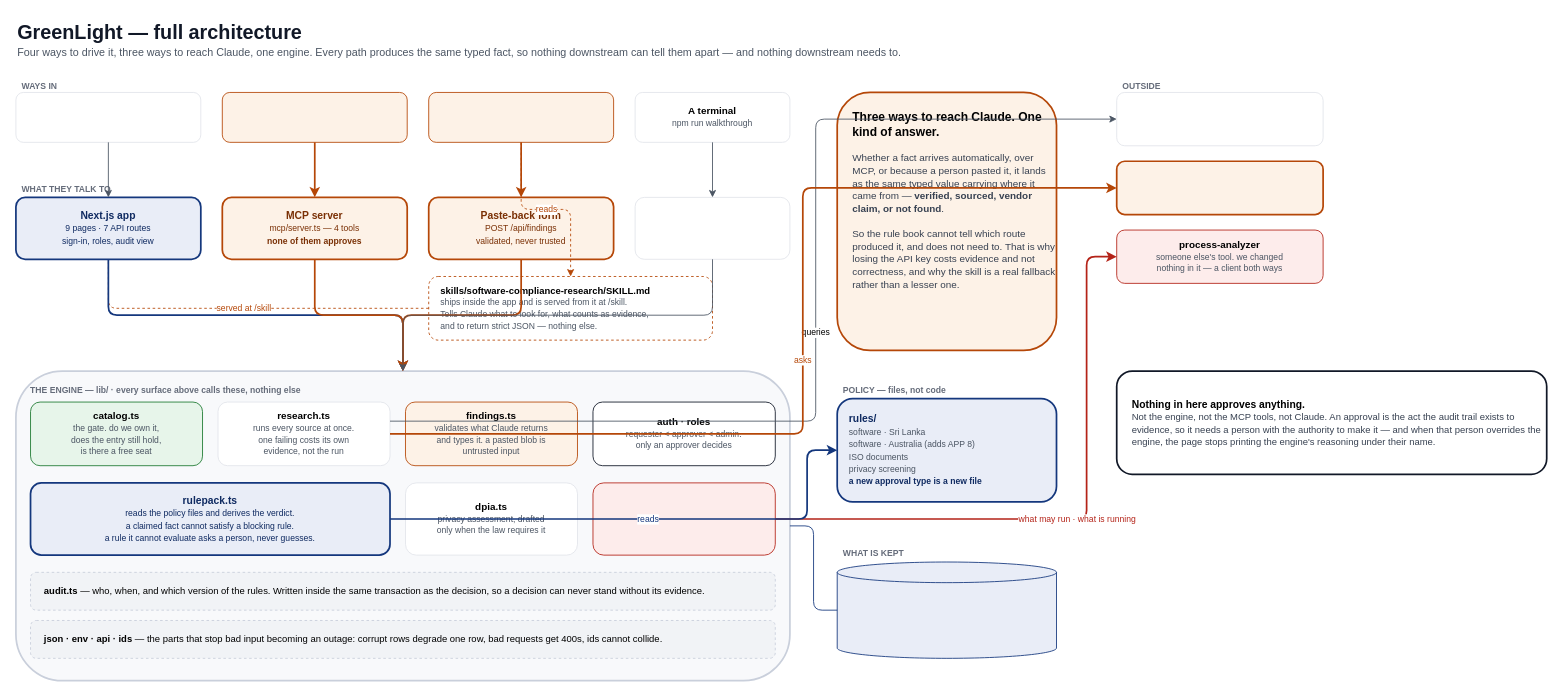
Image size: 1562x696. Some labels were removed from this diagram. The shapes that lost their labels are listed below. From the top down, each one's centre as x and y in pixels, then its label:
[108,117]: A person, in a browser the queue, a request, a decision
[314,117]: Claude, over MCP Claude Code · Claude Desktop
[521,117]: Claude, with the skill a person carries the answer back
[1219,119]: Free security sources CISA · NIST · ToSDR · OSV no key, about one second
[1219,187]: Claude direct with a key, or through Vercel AI Gateway
[712,228]: Script same functions, no browser
[683,518]: estate.ts approved against running. pushes what may run
[946,609]: Postgres requests · dossiers · catalog decisions · scans · people audit events
